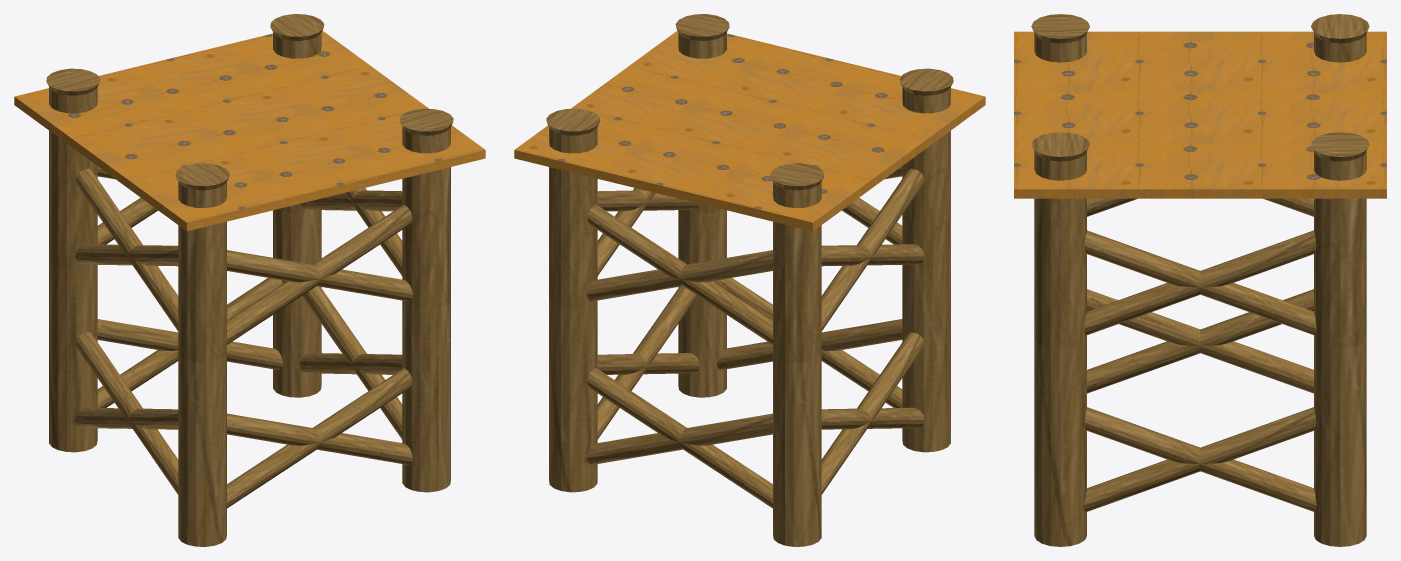
Rendered from GroundPlatformTopExtended.fbx.
3 renders of one model, left to right at view 1: azimuth 30°, elevation 25°; view 2: azimuth 150°, elevation 25°; view 3: azimuth 270°, elevation 25°, orthographic. The views are drawn at different scales.
Visible parts, largest first — view 1: GroundPlatformTopExtended; view 2: GroundPlatformTopExtended; view 3: GroundPlatformTopExtended.
Boxes of the visible parts, left/top/right/bottom form: GroundPlatformTopExtended: left=14, top=14, right=485, bottom=546; GroundPlatformTopExtended: left=514, top=14, right=985, bottom=546; GroundPlatformTopExtended: left=1014, top=14, right=1386, bottom=546.
Bounding box in the file's own units: 160 × 185 × 160.
